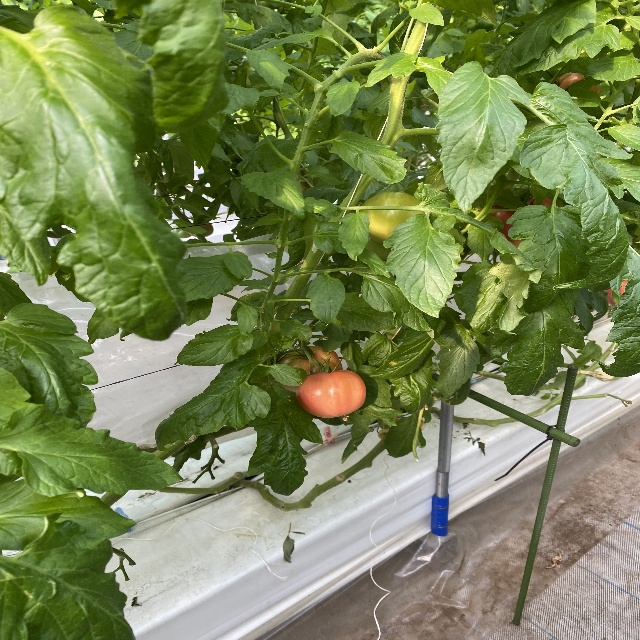b_green: (360, 191, 426, 245)
b_half_ripened: (296, 370, 368, 418), (276, 347, 344, 393)
